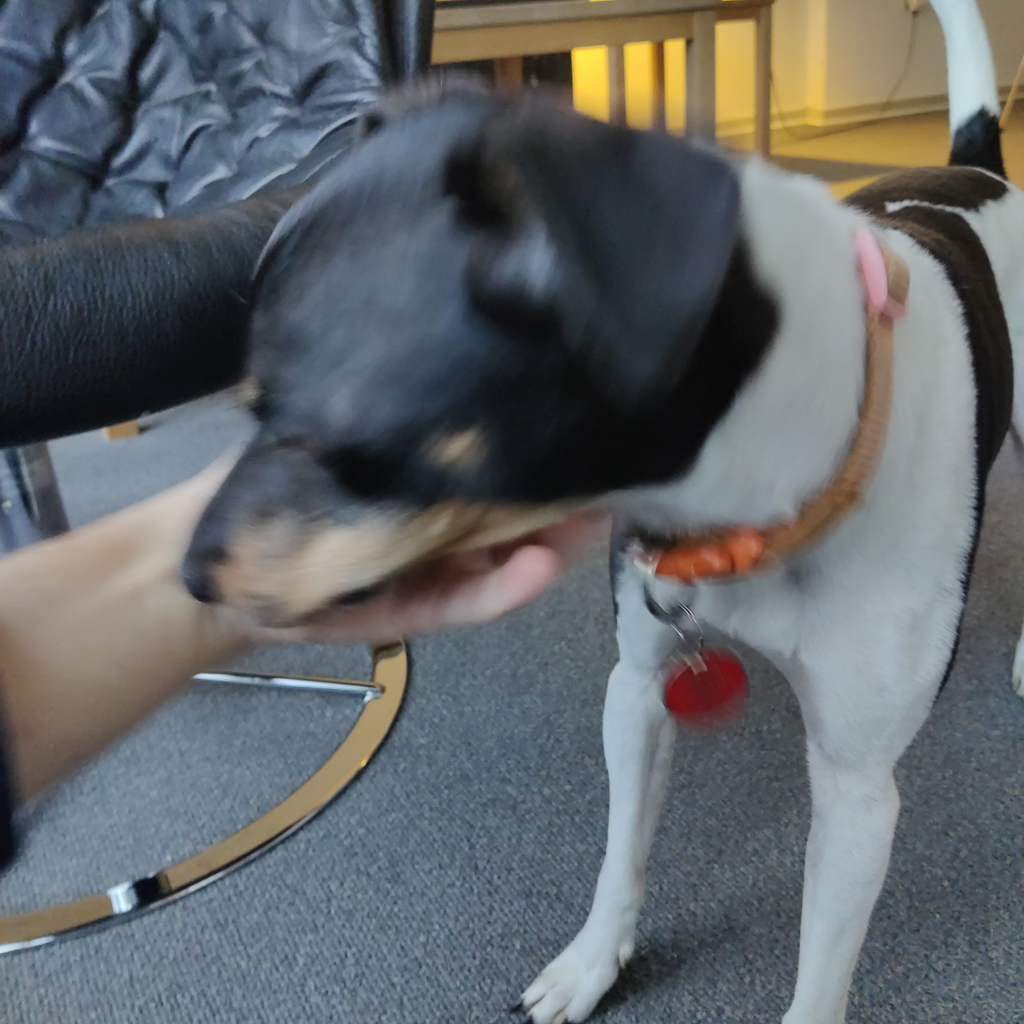Dog: (165, 0, 1024, 1024)
Humanoid: (0, 401, 625, 928)
